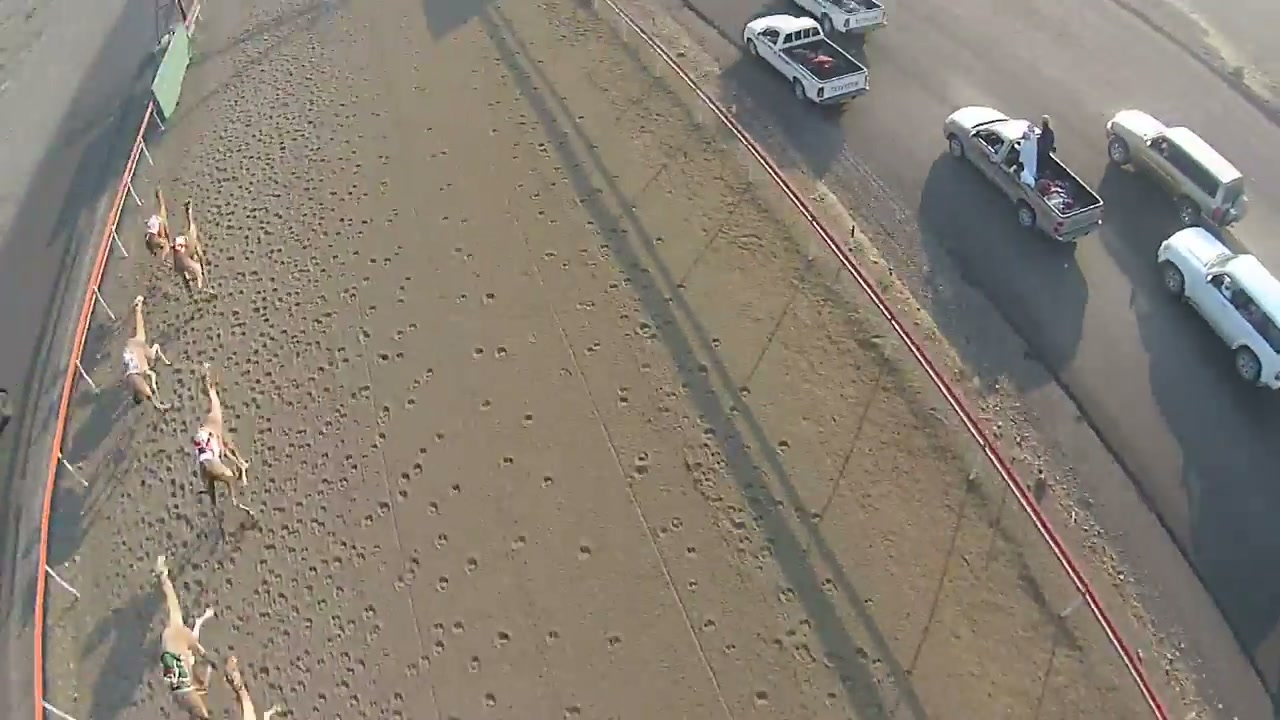animal_footprint: (480, 36, 799, 642), (253, 71, 415, 711), (399, 56, 557, 700), (160, 50, 253, 648)
